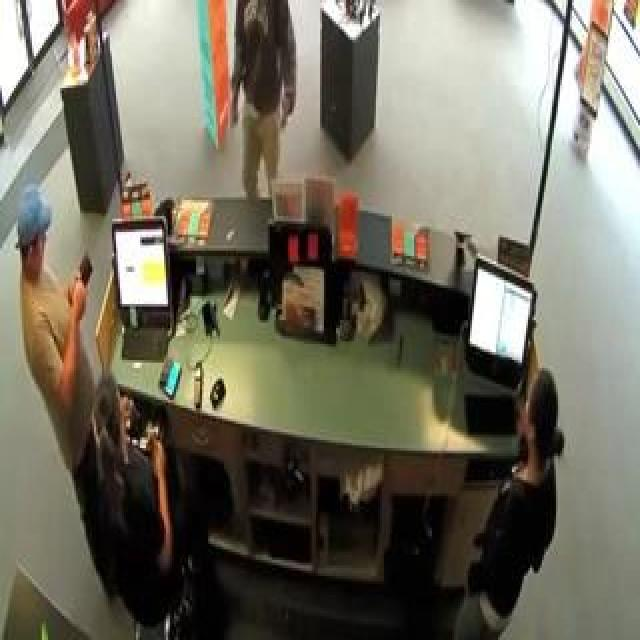low_con: (8, 178, 60, 293)
no_con: (83, 368, 134, 467), (521, 369, 563, 473)
